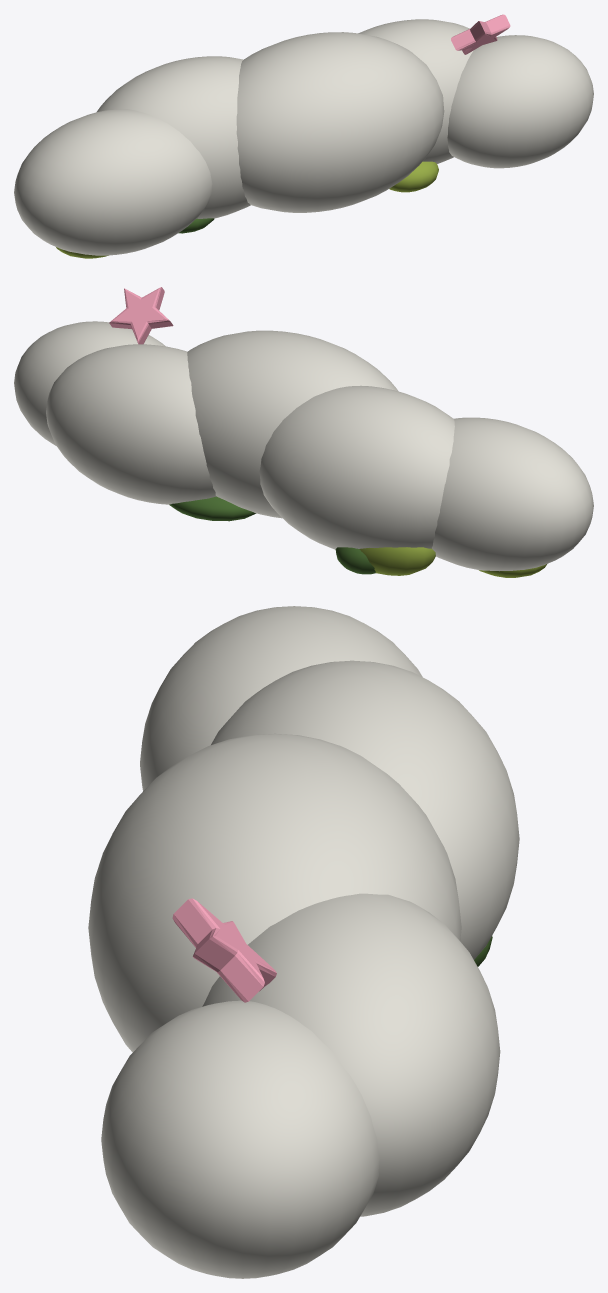
File: cloud-moss-platform.norm.glb
The picture shows the model from 3 angles, top to bottom: view 1: azimuth 30°, elevation 25°; view 2: azimuth 150°, elevation 25°; view 3: azimuth 270°, elevation 25°; orthographic projection. The views are drawn at different scales.
Bounding box in the file's own units: 198 × 56.37 × 67.
